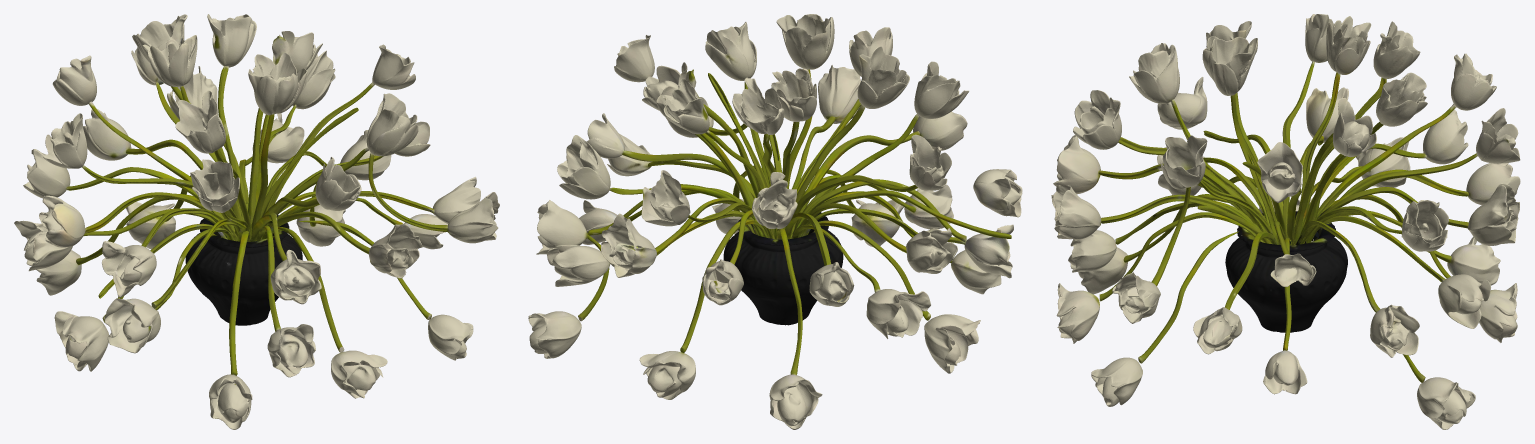
The picture shows the model from 3 angles, left to right: view 1: azimuth 30°, elevation 25°; view 2: azimuth 150°, elevation 25°; view 3: azimuth 270°, elevation 25°; orthographic projection. The views are drawn at different scales.
Parts seen in each view (by area): view 1: tripo_node_4558d301-d1c4-4057-91fe-9d4b369ef56d; view 2: tripo_node_4558d301-d1c4-4057-91fe-9d4b369ef56d; view 3: tripo_node_4558d301-d1c4-4057-91fe-9d4b369ef56d.
Part boxes in pixels (x1,y1,x2,y2): tripo_node_4558d301-d1c4-4057-91fe-9d4b369ef56d: (14,14,499,429); tripo_node_4558d301-d1c4-4057-91fe-9d4b369ef56d: (528,14,1022,429); tripo_node_4558d301-d1c4-4057-91fe-9d4b369ef56d: (1051,14,1520,429).
Bounding box in the file's own units: 1 × 0.7297 × 0.9993.
1 material, 1 textured.
